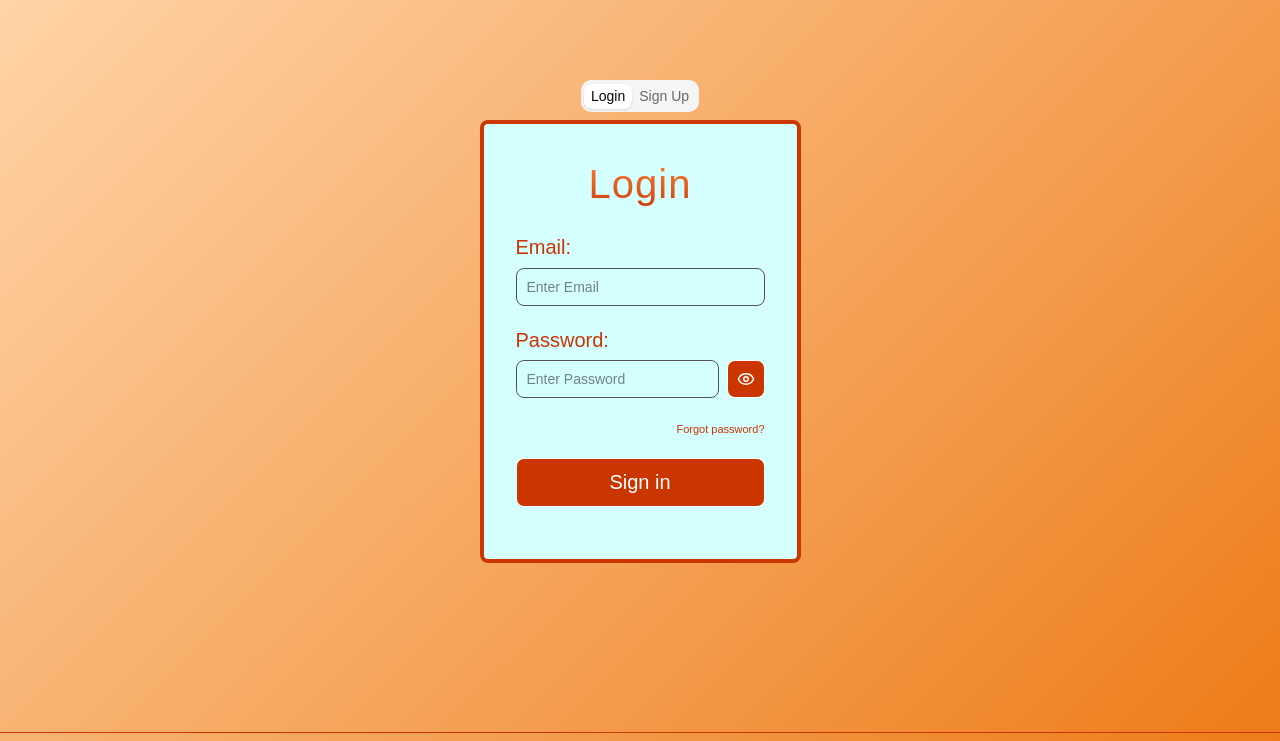
Scenario: Login Page Testing › Registration Form Testing › Testing to see if the email and password fields are present
Click the tab "Sign Up". click: {"x": 664, "y": 96}
box: [632,84,696,108]
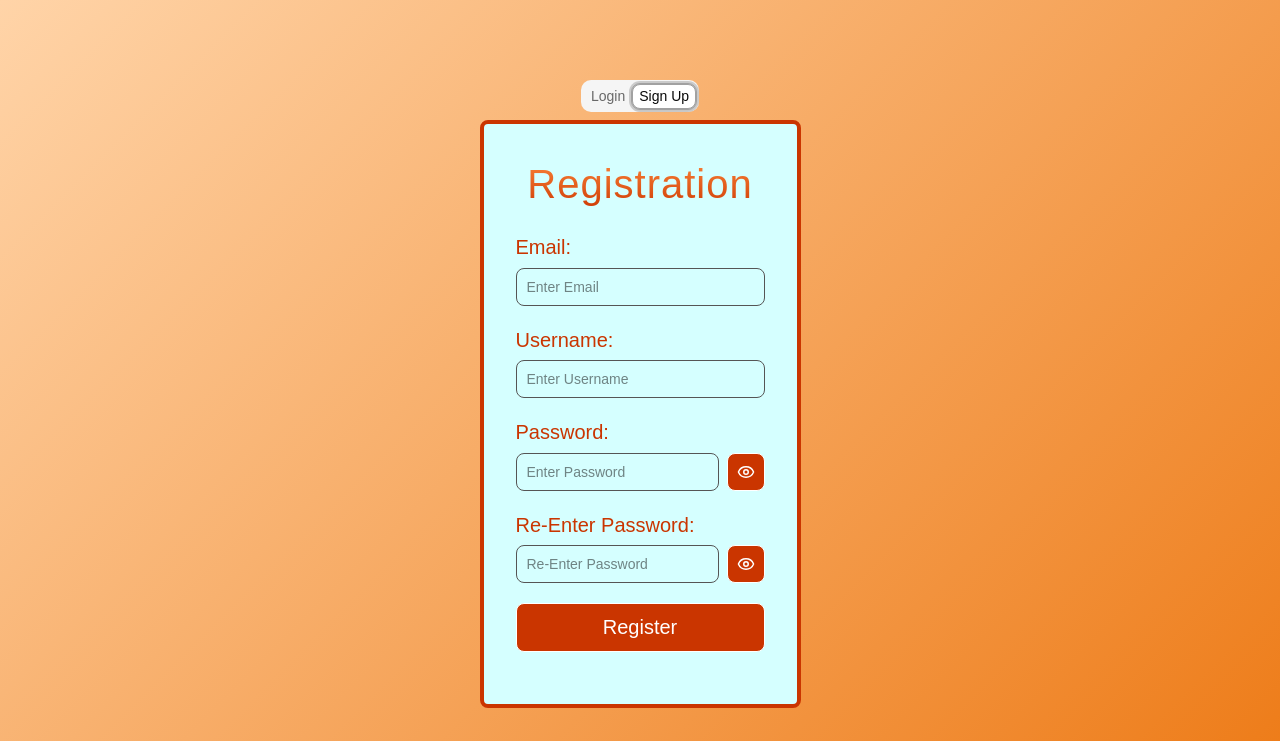
Expected: the field labelled "Username:" is shown, [516,360,764,398]
Expected: the password field labelled "Password:" is shown, [516,453,718,491]
Expected: the password field labelled "Re-Enter Password:" is shown, [516,545,718,583]
